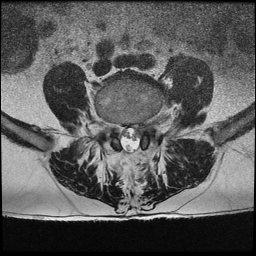CCS_normal: (127, 117, 134, 158)
LFS_normal: (142, 111, 152, 138)
LLS_normal: (135, 118, 142, 152)
RFS_normal: (111, 114, 120, 144)
RLS_normal: (120, 118, 127, 153)
